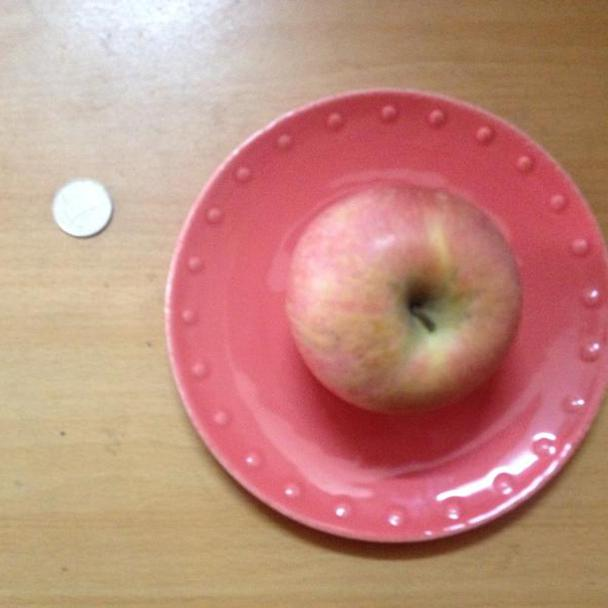apple: (282, 190, 534, 415)
